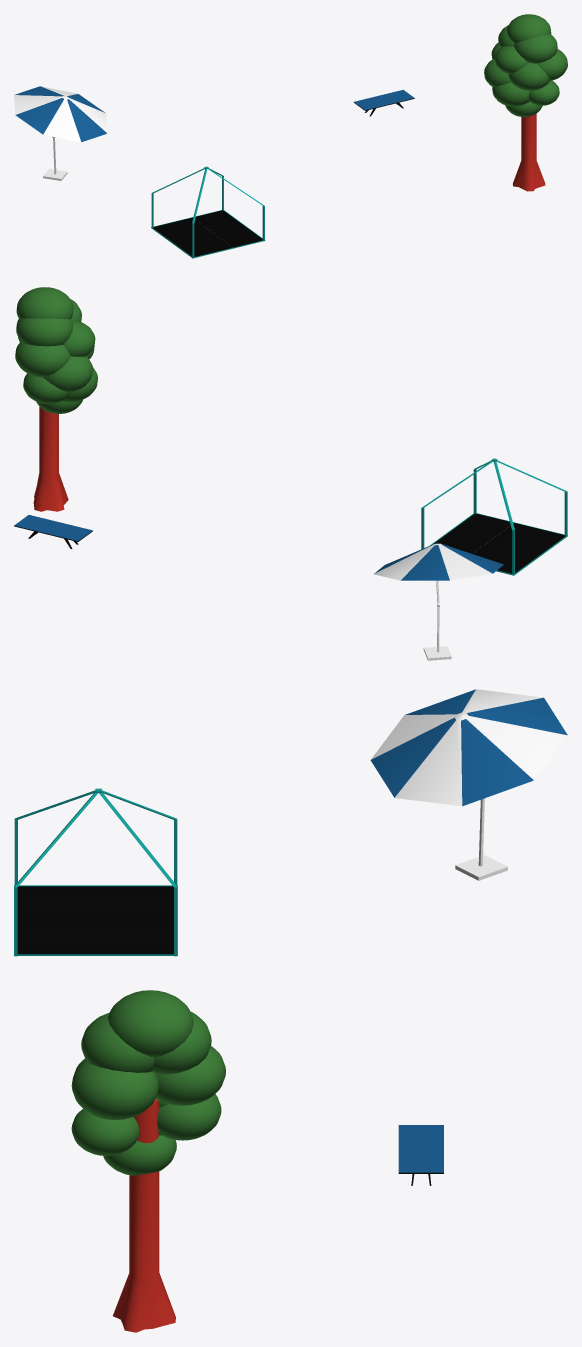
The model's file is Mobilier_pas_encore_Cassé_export_Final_01.FBX.
The picture shows the model from 3 angles, top to bottom: view 1: azimuth 30°, elevation 25°; view 2: azimuth 150°, elevation 25°; view 3: azimuth 270°, elevation 25°; orthographic projection. The views are drawn at different scales.
Visible parts, largest first — view 1: arbre low poly, parasol, Kiosque, Table; view 2: arbre low poly, Kiosque, parasol, Table; view 3: arbre low poly, parasol, Kiosque, Table.
Boxes of the visible parts, x1,y1,x2,y2 form: arbre low poly: (484,14,567,191); parasol: (14,86,107,180); Kiosque: (151,166,265,258); Table: (353,89,414,116); arbre low poly: (15,287,97,511); Kiosque: (421,458,567,575); parasol: (374,543,503,660); Table: (14,515,92,548); arbre low poly: (71,990,225,1332); parasol: (370,689,567,880); Kiosque: (14,788,177,956); Table: (398,1125,443,1185).
Size of the model in its own units: 4084 by 1415 by 2183.
